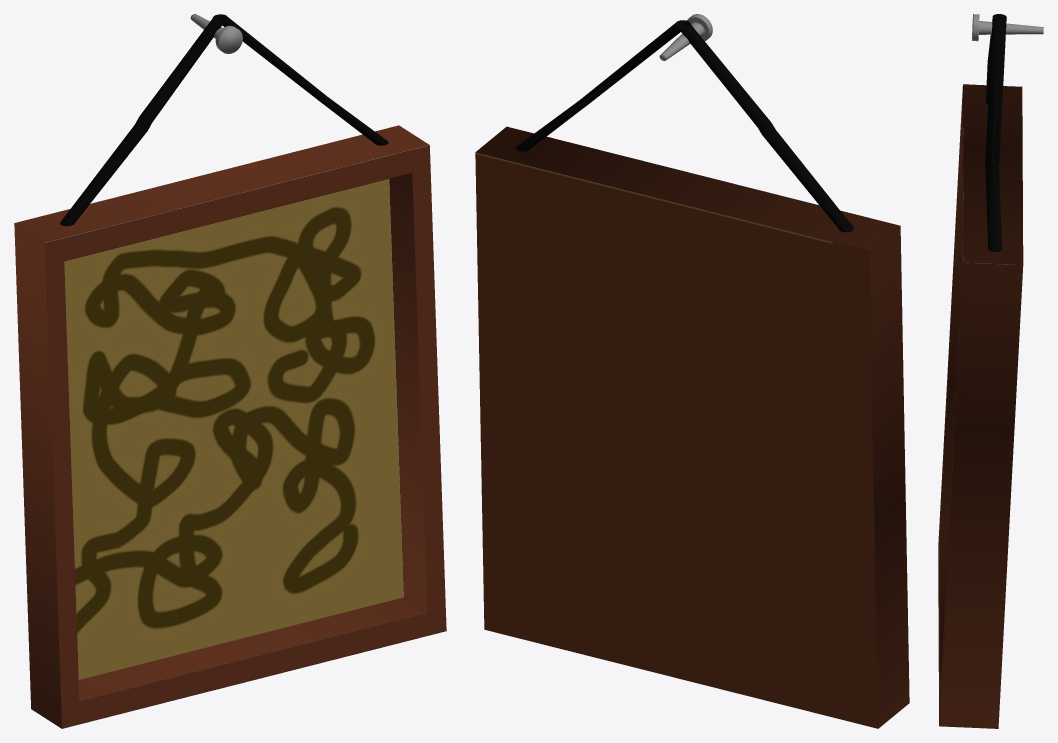
File: CuadroGarabatoRocko.obj
3 renders of one model, left to right at view 1: azimuth 30°, elevation 25°; view 2: azimuth 150°, elevation 25°; view 3: azimuth 270°, elevation 25°, orthographic. The views are drawn at different scales.
Parts seen in each view (by area): view 1: CuadroGarabatoRocko:Mesh; view 2: CuadroGarabatoRocko:Mesh; view 3: CuadroGarabatoRocko:Mesh.
Part boxes in pixels (x1=…): CuadroGarabatoRocko:Mesh: x1=14, y1=14, x2=446, y2=728; CuadroGarabatoRocko:Mesh: x1=475, y1=14, x2=909, y2=728; CuadroGarabatoRocko:Mesh: x1=938, y1=14, x2=1043, y2=728.
Bounding box in the file's own units: 0.5355 × 0.8481 × 0.1301.
1 material, 1 textured.
